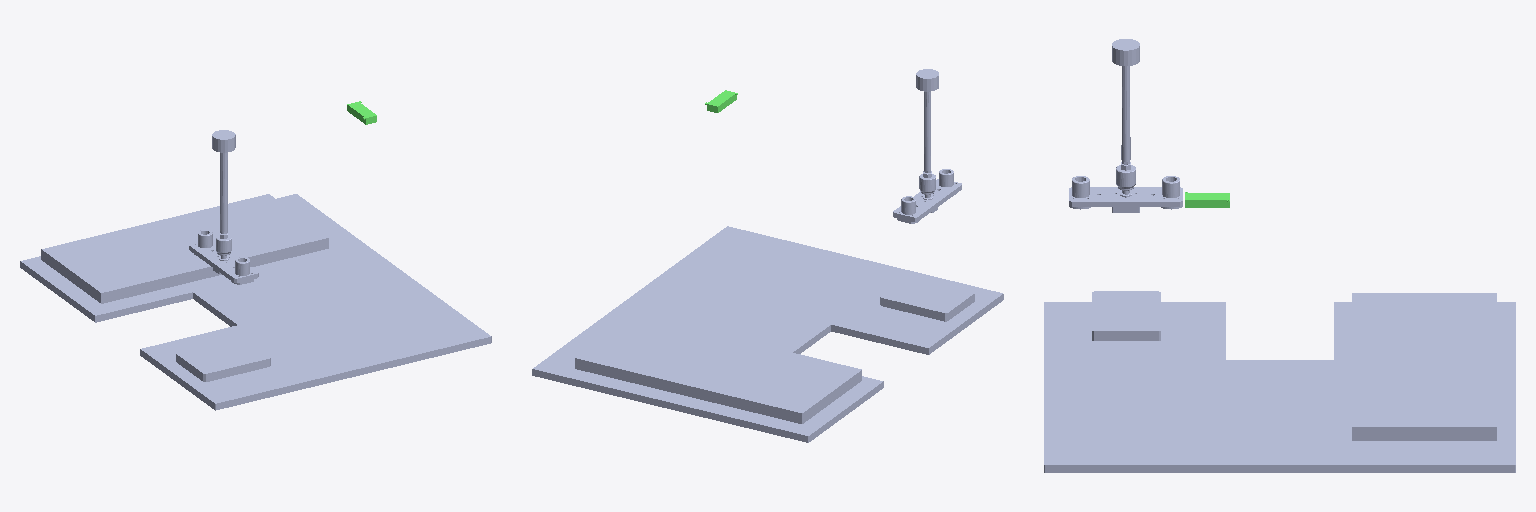
The robot description file, URDF, robot "scara_operation":
<?xml version="1.0" encoding="utf-8"?>
<!-- This URDF was automatically created by SolidWorks to URDF Exporter! Originally created by [author] ([email redacted]) 
     Commit Version: 1.5.1-0-g916b5db  Build Version: 1.5.7152.31018
     For more information, please see http://wiki.ros.org/sw_urdf_exporter -->
<robot
  name="scara_operation">
  <link name="world"/>
  <joint name="world_scara_operation" type="fixed">
    <origin xyz="0 0 0" rpy="0 0 0" />
    <parent link="world" />
    <child link="scara_workspace_base" />
  </joint>
  <link
    name="scara_workspace_base">
    <inertial>
      <origin
        xyz="0.0040733 0.019417 0.19187"
        rpy="0 0 0" />
      <mass
        value="127.01" />
      <inertia
        ixx="9.6889"
        ixy="0.0040168"
        ixz="0.0022999"
        iyy="6.7002"
        iyz="0.00065688"
        izz="15.721" />
    </inertial>
    <visual>
      <origin
        xyz="0 0 0"
        rpy="0 0 0" />
      <geometry>
        <mesh
          filename="package://scara_operation/meshes/scara_workspace_base.STL" />
      </geometry>
      <material
        name="">
        <color
          rgba="0.79216 0.81961 0.93333 1" />
      </material>
    </visual>
    <collision>
      <origin
        xyz="0 0 0"
        rpy="0 0 0" />
      <geometry>
        <mesh
          filename="package://scara_operation/meshes/scara_workspace_base.STL" />
      </geometry>
    </collision>
  </link>
  <link
    name="scara_desktop">
    <inertial>
      <origin
        xyz="0.024384 -3.8164E-17 -0.01"
        rpy="0 0 0" />
      <mass
        value="16.24" />
      <inertia
        ixx="1.5872"
        ixy="4.0658E-17"
        ixz="-3.4294E-18"
        iyy="0.93566"
        iyz="-3.5009E-18"
        izz="2.5218" />
    </inertial>
    <visual>
      <origin
        xyz="0 0 0"
        rpy="0 0 0" />
      <geometry>
        <mesh
          filename="package://scara_operation/meshes/scara_desktop.STL" />
      </geometry>
      <material
        name="">
        <color
          rgba="0.79216 0.81961 0.93333 1" />
      </material>
    </visual>
    <collision>
      <origin
        xyz="0 0 0"
        rpy="0 0 0" />
      <geometry>
        <mesh
          filename="package://scara_operation/meshes/scara_desktop.STL" />
      </geometry>
    </collision>
  </link>
  <joint
    name="scara_desktop_joint"
    type="fixed">
    <origin
      xyz="0 0 0.754"
      rpy="0 0 0" />
    <parent
      link="scara_workspace_base" />
    <child
      link="scara_desktop" />
    <axis
      xyz="0 0 0" />
  </joint>
  <link
    name="scara_rivet_board">
    <inertial>
      <origin
        xyz="-5.5511E-17 0 -0.01225"
        rpy="0 0 0" />
      <mass
        value="0.78371" />
      <inertia
        ixx="0.0015841"
        ixy="1.8584E-19"
        ixz="1.285E-20"
        iyy="0.0028563"
        iyz="7.2218E-21"
        izz="0.0043621" />
    </inertial>
    <visual>
      <origin
        xyz="0 0 0"
        rpy="0 0 0" />
      <geometry>
        <mesh
          filename="package://scara_operation/meshes/scara_rivet_board.STL" />
      </geometry>
      <material
        name="">
        <color
          rgba="0.79216 0.81961 0.93333 1" />
      </material>
    </visual>
    <collision>
      <origin
        xyz="0 0 0"
        rpy="0 0 0" />
      <geometry>
        <mesh
          filename="package://scara_operation/meshes/scara_rivet_board.STL" />
      </geometry>
    </collision>
  </link>
  <joint
    name="scara_rivet_board_joint"
    type="fixed">
    <origin
      xyz="-0.295 -0.33902 0.7925"
      rpy="0 0 0" />
    <parent
      link="scara_workspace_base" />
    <child
      link="scara_rivet_board" />
    <axis
      xyz="0 0 0" />
  </joint>
  <link
    name="scara_rivet_base">
    <inertial>
      <origin
        xyz="0.00015498 1.3535E-09 0.04983"
        rpy="0 0 0" />
      <mass
        value="0.65955" />
      <inertia
        ixx="0.0028251"
        ixy="-7.6456E-11"
        ixz="-2.2744E-09"
        iyy="0.0019732"
        iyz="-2.2035E-11"
        izz="0.0012232" />
    </inertial>
    <visual>
      <origin
        xyz="0 0 0"
        rpy="0 0 0" />
      <geometry>
        <mesh
          filename="package://scara_operation/meshes/scara_rivet_base.STL" />
      </geometry>
      <material
        name="">
        <color
          rgba="0.79216 0.81961 0.93333 1" />
      </material>
    </visual>
    <collision>
      <origin
        xyz="0 0 0"
        rpy="0 0 0" />
      <geometry>
        <mesh
          filename="package://scara_operation/meshes/scara_rivet_base.STL" />
      </geometry>
    </collision>
  </link>
  <joint
    name="scara_rivet_base_joint"
    type="prismatic">
    <origin
      xyz="-0.295 -0.34 1.114"
      rpy="0 0 0" />
    <parent
      link="scara_workspace_base" />
    <child
      link="scara_rivet_base" />
    <axis
      xyz="0 0 -1" />
    <limit
      lower="0"
      upper="0.245"
      effort="0"
      velocity="0" />
  </joint>
  <link
    name="scara_3dcamera">
    <inertial>
      <origin
        xyz="-8.5692E-07 -2.7958E-06 0.01003"
        rpy="0 0 0" />
      <mass
        value="0.070229" />
      <inertia
        ixx="6.118E-05"
        ixy="-2.2287E-07"
        ixz="-8.6313E-10"
        iyy="9.5966E-06"
        iyz="-1.9497E-09"
        izz="6.6077E-05" />
    </inertial>
    <visual>
      <origin
        xyz="0 0 0"
        rpy="0 0 0" />
      <geometry>
        <mesh
          filename="package://scara_operation/meshes/scara_3dcamera.STL" />
      </geometry>
      <material
        name="">
        <color
          rgba="0.50196 1 0.50196 1" />
      </material>
    </visual>
    <collision>
      <origin
        xyz="0 0 0"
        rpy="0 0 0" />
      <geometry>
        <mesh
          filename="package://scara_operation/meshes/scara_3dcamera.STL" />
      </geometry>
    </collision>
  </link>
  <joint
    name="scara_3dcamera_joint"
    type="fixed">
    <origin
      xyz="0.235 -0.16 1.299"
      rpy="0 0 0" />
    <parent
      link="scara_workspace_base" />
    <child
      link="scara_3dcamera" />
    <axis
      xyz="0 0 0" />
  </joint>
  <link
    name="scara_workspace_connection">
    <inertial>
      <origin
        xyz="-1.1102E-16 6.5919E-17 5E-05"
        rpy="0 0 0" />
      <mass
        value="7.854E-06" />
      <inertia
        ixx="4.9094E-11"
        ixy="4.564E-28"
        ixz="-9.1461E-27"
        iyy="4.9094E-11"
        iyz="-2.0325E-25"
        izz="9.8175E-11" />
    </inertial>
    <visual>
      <origin
        xyz="0 0 0"
        rpy="0 0 0" />
      <geometry>
        <mesh
          filename="package://scara_operation/meshes/scara_workspace_connection.STL" />
      </geometry>
      <material
        name="">
        <color
          rgba="0.79216 0.81961 0.93333 1" />
      </material>
    </visual>
    <collision>
      <origin
        xyz="0 0 0"
        rpy="0 0 0" />
      <geometry>
        <mesh
          filename="package://scara_operation/meshes/scara_workspace_connection.STL" />
      </geometry>
    </collision>
  </link>
  <joint
    name="scara_workspace_connection_joint"
    type="fixed">
    <origin
      xyz="-0.2365 0 0.618"
      rpy="0 0 0" />
    <parent
      link="scara_workspace_base" />
    <child
      link="scara_workspace_connection" />
    <axis
      xyz="0 0 1" />
  </joint>

  <!-- platform -->
  <link
    name="scara_workspace_platform">
    <visual>
      <origin
        xyz="0 0 0.025"
        rpy="0 0 0" />
      <geometry>
        <box size="0.32 0.7 0.032"/>
      </geometry>
      <material
        name="">
        <color
          rgba="0.79216 0.81961 0.93333 1" />
      </material>
    </visual>
    <collision>
      <origin
        xyz="0 0 0"
        rpy="0 0 0" />
      <geometry>
        <box size="0.32 0.7 0.032"/>
      </geometry>
    </collision>
  </link>
  <joint
    name="scara_workspace_platform_joint"
    type="fixed">
    <origin
      xyz="-0.033 0.32 0.754"
      rpy="0 0 1.5707" />
    <parent
      link="scara_workspace_base" />
    <child
      link="scara_workspace_platform" />
    <axis
      xyz="0 0 1" />
  </joint>
</robot>

--- Facts derived from the render (not from the file) ---
The picture shows the robot from 3 angles, left to right: view 1: azimuth 30°, elevation 25°; view 2: azimuth 150°, elevation 25°; view 3: azimuth 270°, elevation 25°; orthographic projection.
Robot: scara_operation — 8 links, 7 joints (1 prismatic, 6 fixed); root link world; default pose: all joints at 0.
Links seen in each view (by area): view 1: scara_desktop, scara_workspace_platform, scara_rivet_base, scara_rivet_board; view 2: scara_desktop, scara_workspace_platform, scara_rivet_base, scara_rivet_board; view 3: scara_desktop, scara_workspace_platform, scara_rivet_base, scara_rivet_board, scara_3dcamera.
Link boxes in pixels (<box>): scara_desktop: <box>20,194,491,410</box>; scara_workspace_platform: <box>41,194,328,303</box>; scara_rivet_base: <box>189,130,258,284</box>; scara_rivet_board: <box>176,337,270,381</box>; scara_desktop: <box>532,226,1003,442</box>; scara_workspace_platform: <box>575,314,861,423</box>; scara_rivet_base: <box>893,69,961,223</box>; scara_rivet_board: <box>880,277,974,321</box>; scara_desktop: <box>1044,302,1515,472</box>; scara_workspace_platform: <box>1352,293,1496,440</box>; scara_rivet_base: <box>1069,39,1182,212</box>; scara_rivet_board: <box>1092,291,1160,340</box>; scara_3dcamera: <box>1185,192,1229,207</box>.
Bounding box of the posed robot: 0.85 × 1.04 × 0.824 m (x, y, z).
5 mesh visuals loaded from 6 distinct referenced files (5 binary STL); not drawn: 1 (reference not matched to a file when rendering).
